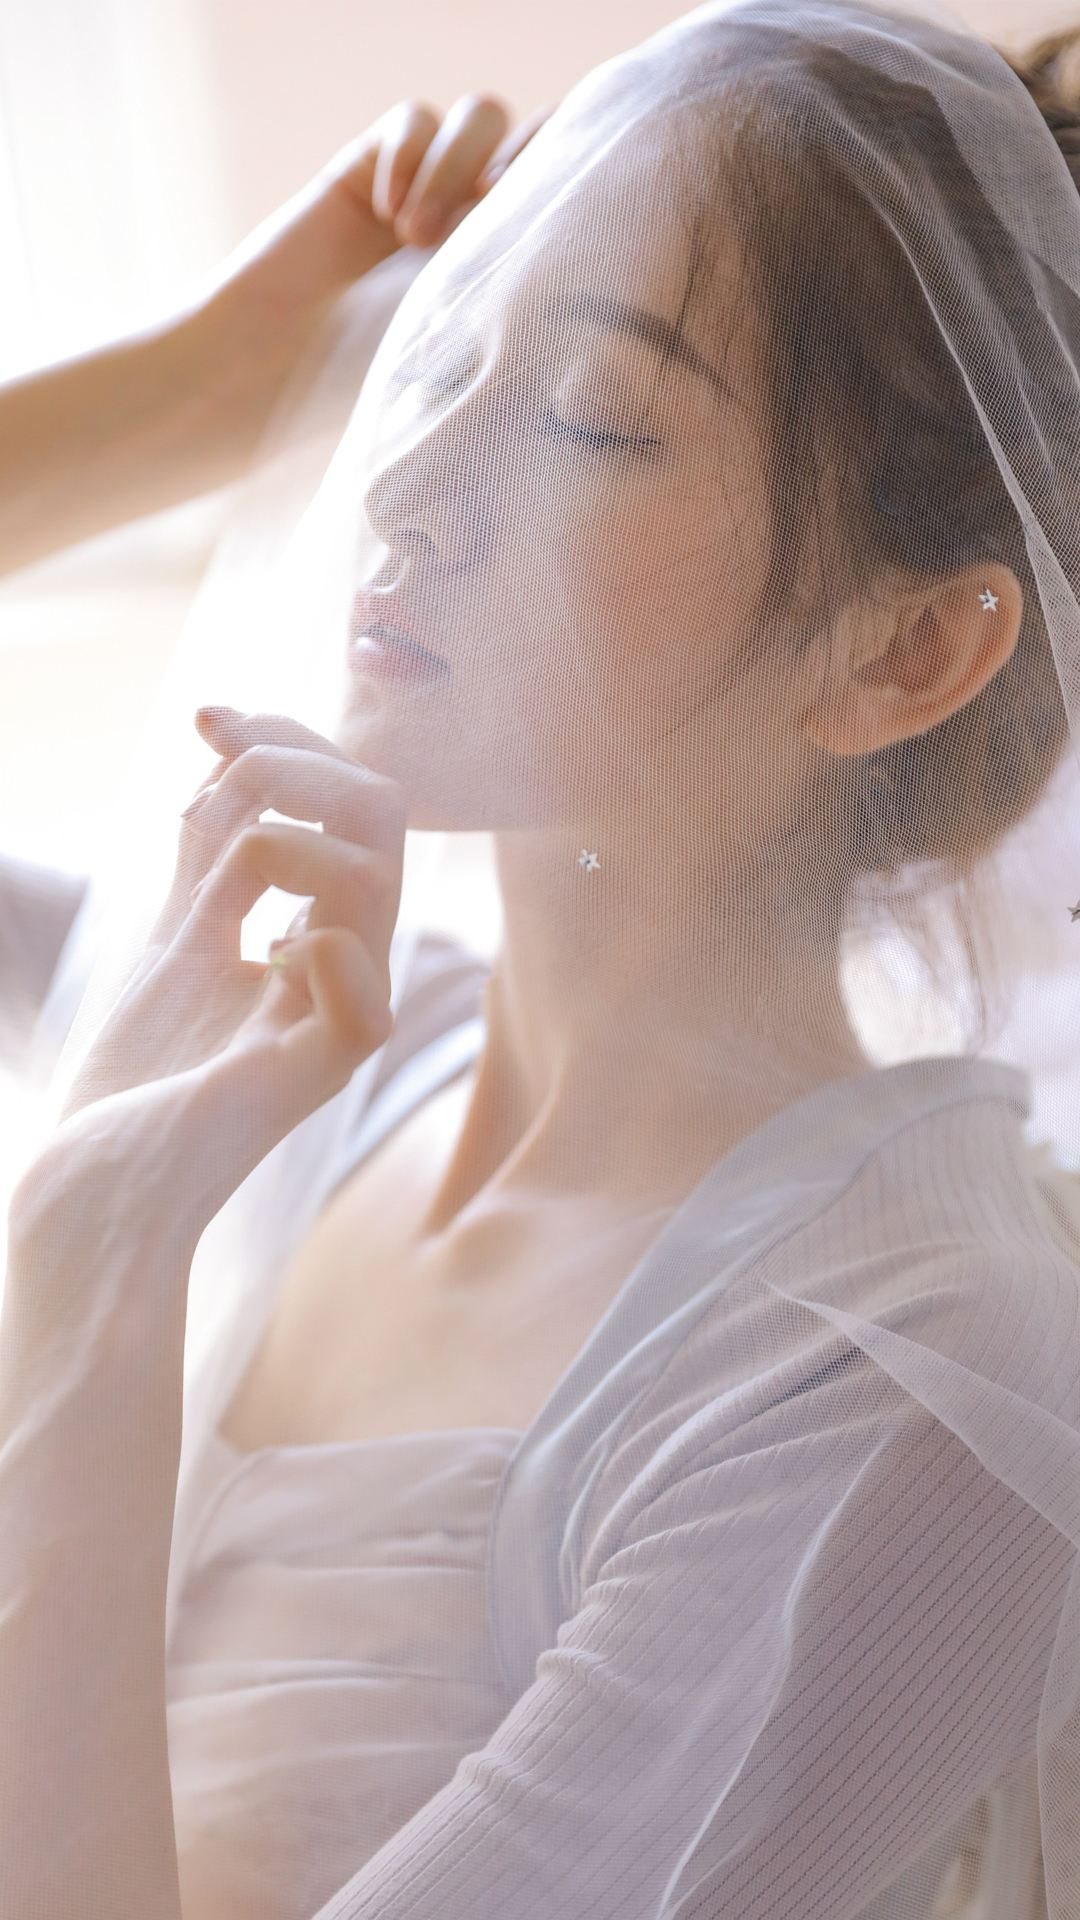person: (289, 25, 1080, 1231)
